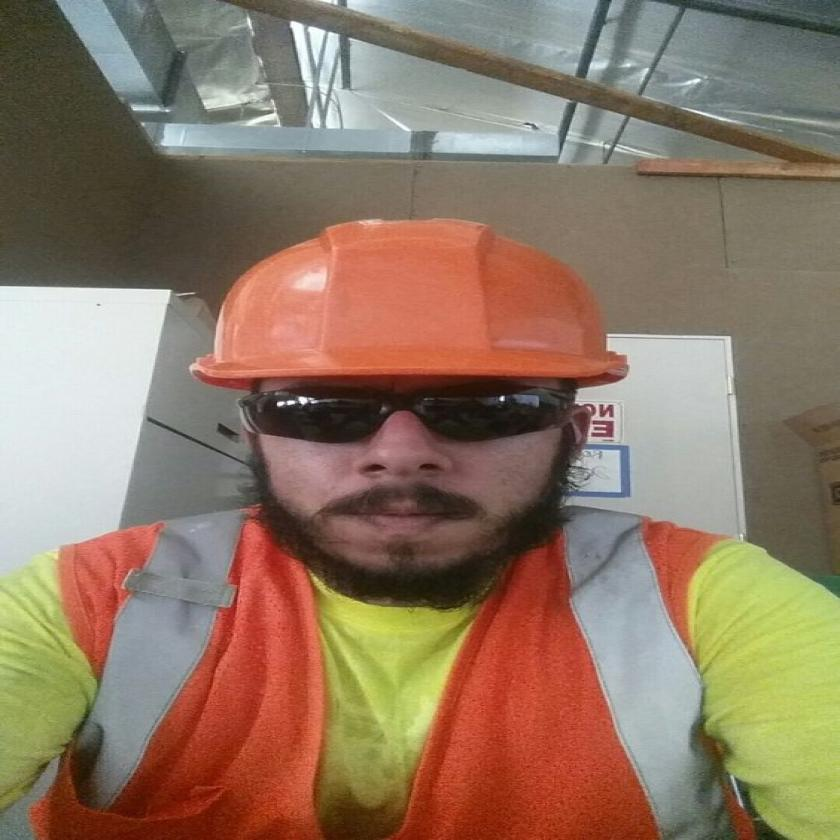Con_casco: (179, 181, 686, 618)
